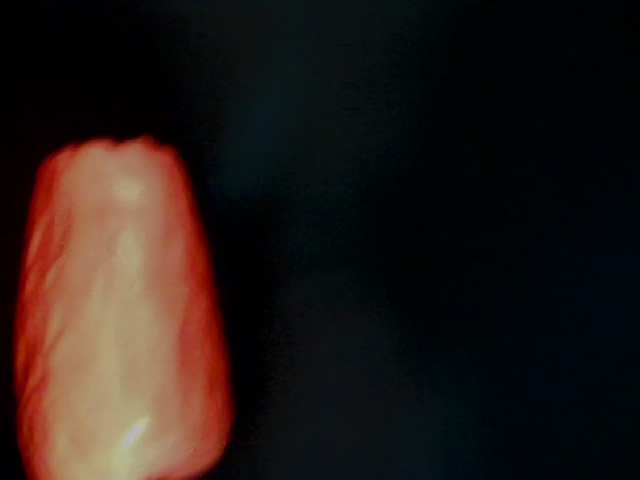CYLJ: (337, 233, 444, 333)
